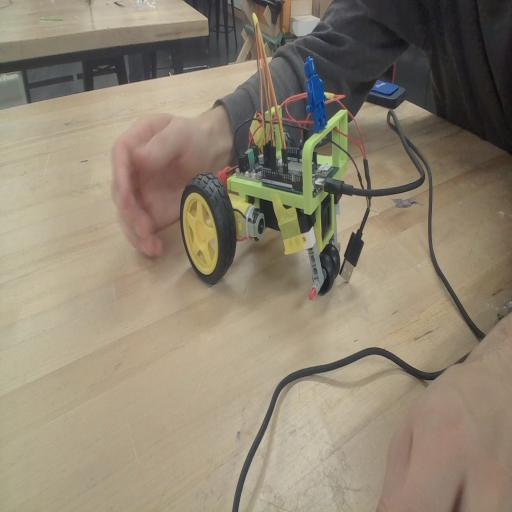blue LEGO minifig: (302, 54, 330, 136)
